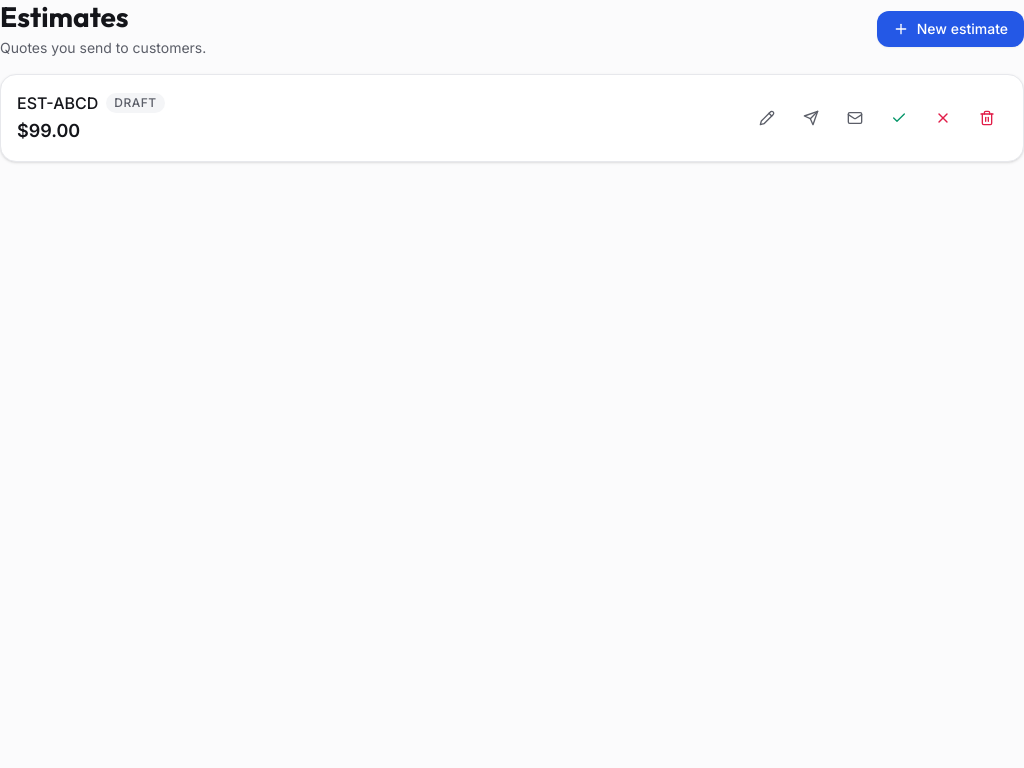
EstimatesPage › loads the full estimate on edit and shows its tax-inclusive total
expect the text "EST-ABCD" is shown: met, box [17,91,98,115]
Click the button titled "Edit": (767, 118) [747,102,787,134]
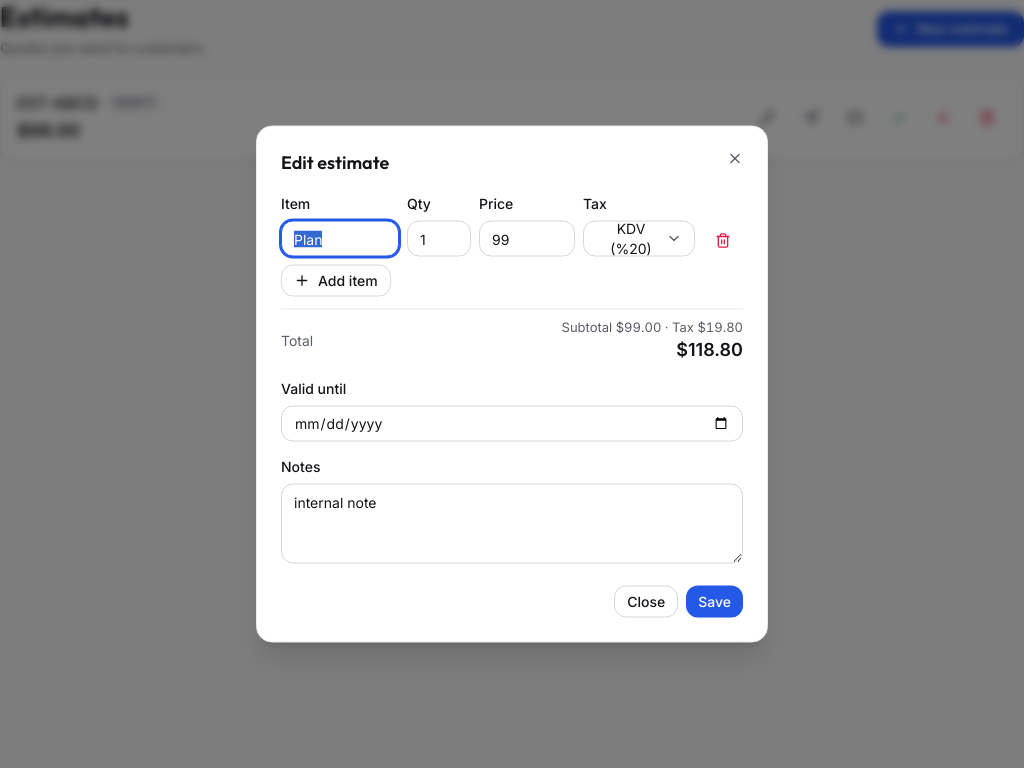
expect the text "$118.80" is shown: met, box [676,338,743,360]
